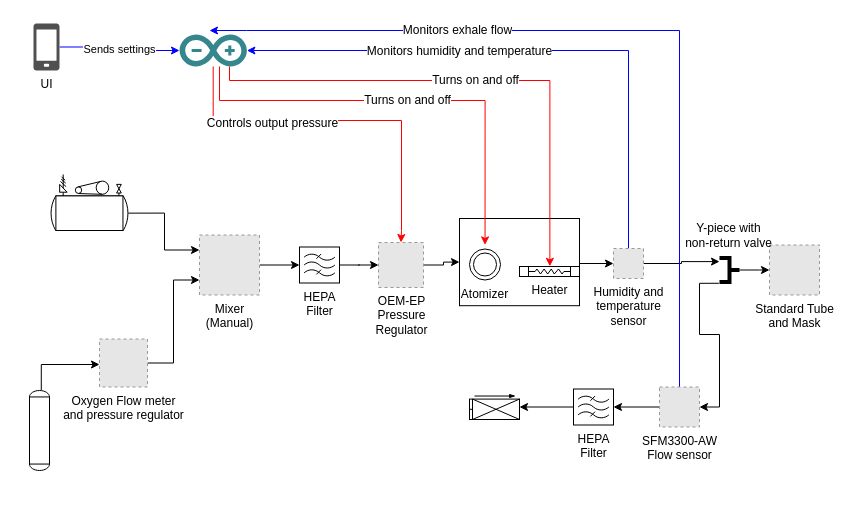
The diagram is 851 pixels wide and 508 high, and some of its shapes have lost their labels. Grey dashed boxes stand in for pictures. The box of each missing label's shape, as (x1, y1, x2, y2) in pixels:
Air Compressor: (48, 174, 130, 230)
Arduino Board: (179, 34, 246, 66)
Humidifier: (458, 218, 580, 306)
O2 Tank: (28, 390, 50, 470)
PEEP Valve: (468, 394, 520, 420)
